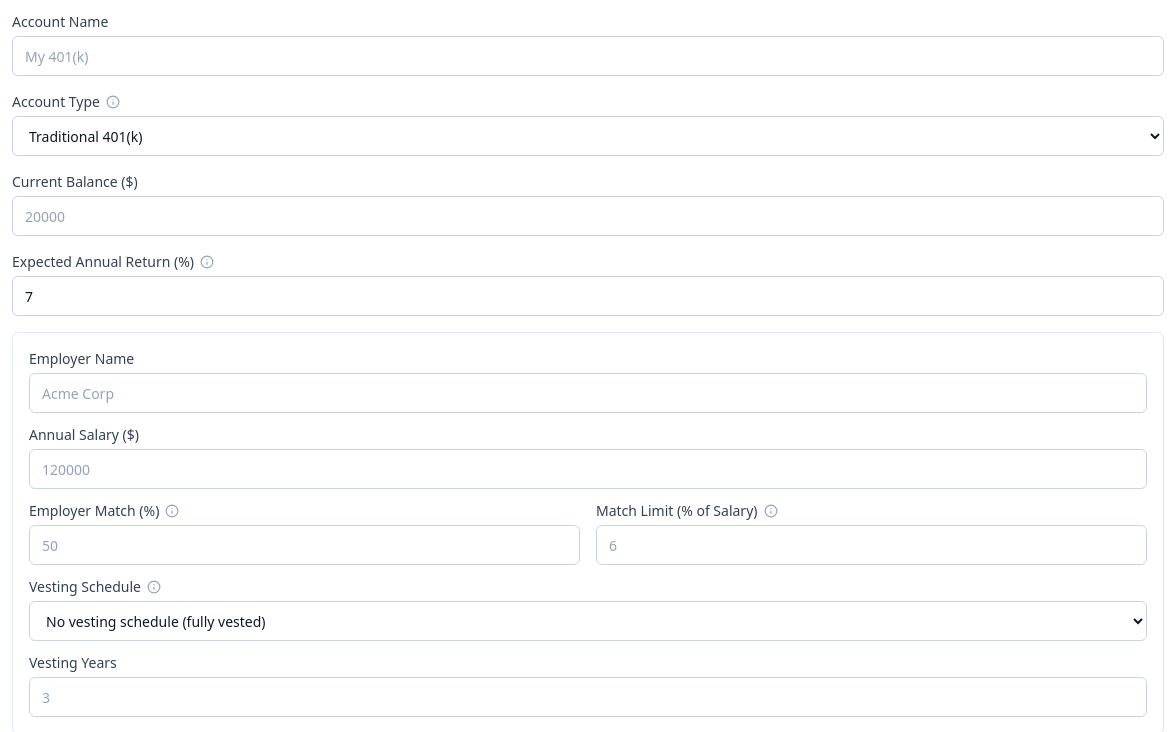
RetirementAccountForm › hides employer/vesting fields once an IRA type is selected
Select "Roth IRA" in the dropdown labelled "Account Type". click: (588, 136)
box: [12,116,1164,156]
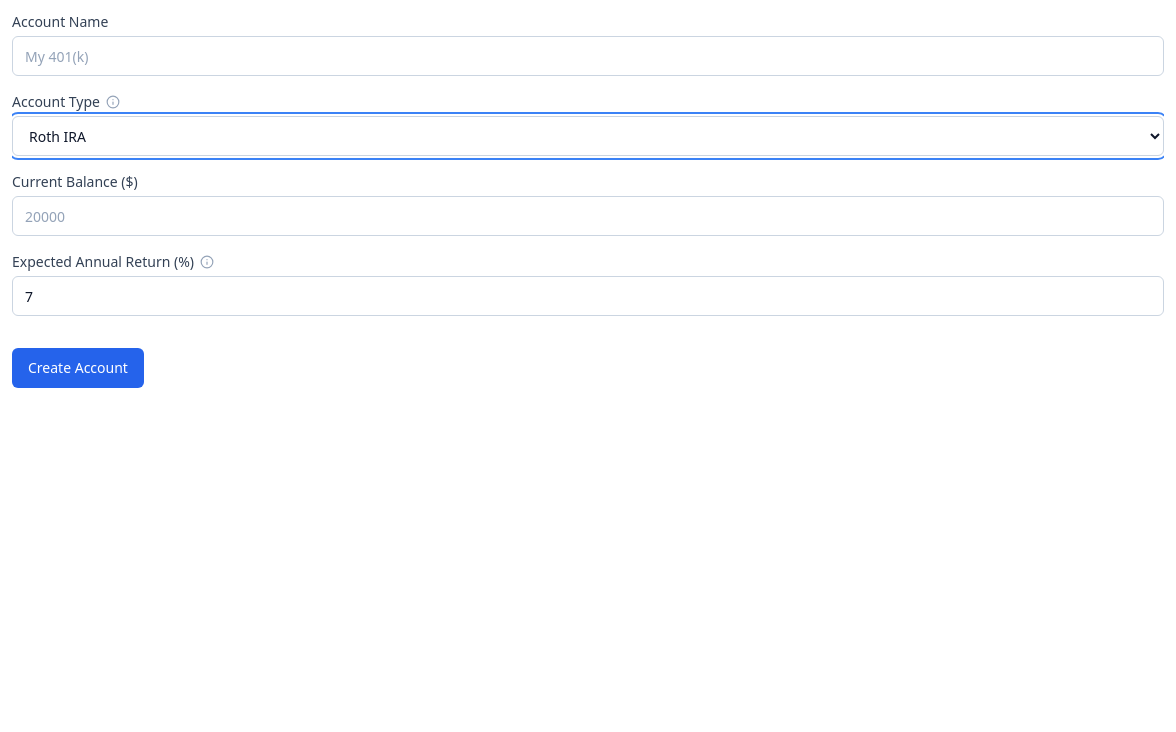
Check: the label labelled "Employer Name" is gone
